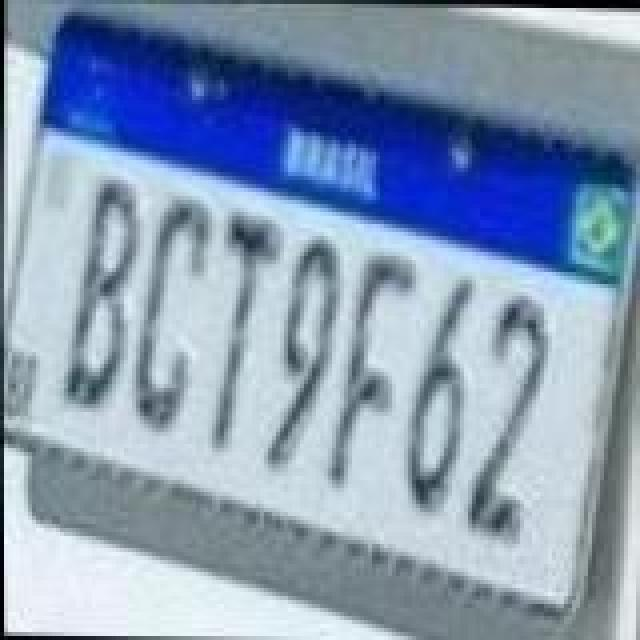2: (468, 288, 556, 540)
6: (402, 274, 478, 518)
9: (264, 236, 348, 472)
B: (64, 178, 148, 406)
C: (132, 192, 216, 432)
F: (332, 246, 424, 486)
T: (212, 210, 288, 454)
